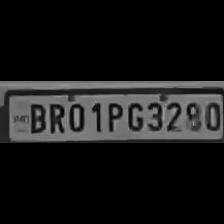0: (64, 100, 88, 134), (202, 98, 222, 132)
1: (86, 100, 104, 134)
2: (162, 99, 182, 133)
3: (144, 99, 162, 133)
B: (26, 100, 46, 134)
G: (124, 99, 144, 133)
P: (103, 100, 123, 132)
R: (46, 100, 64, 134)
